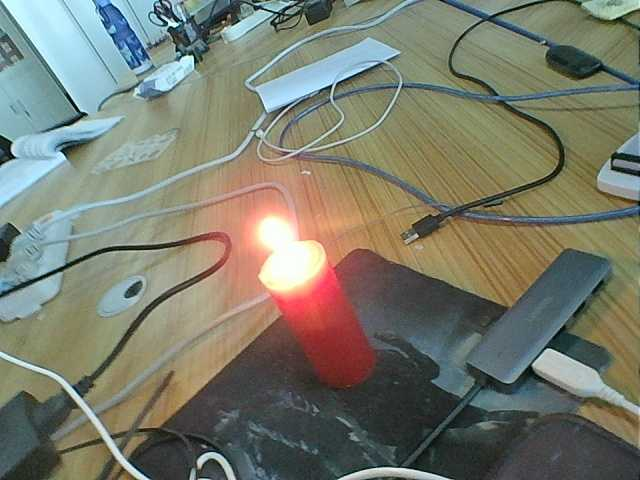candle: (265, 288, 379, 387)
fire: (244, 212, 320, 280)
